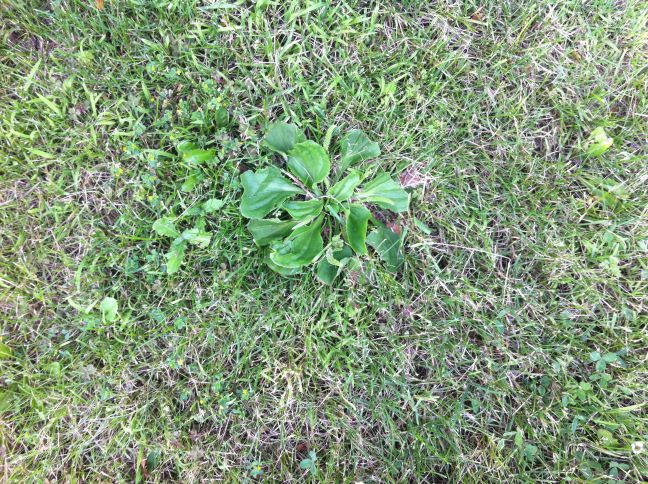weed1: (238, 120, 413, 289)
